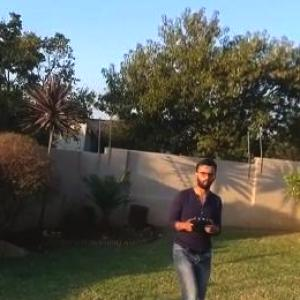follow: (168, 153, 230, 299)
